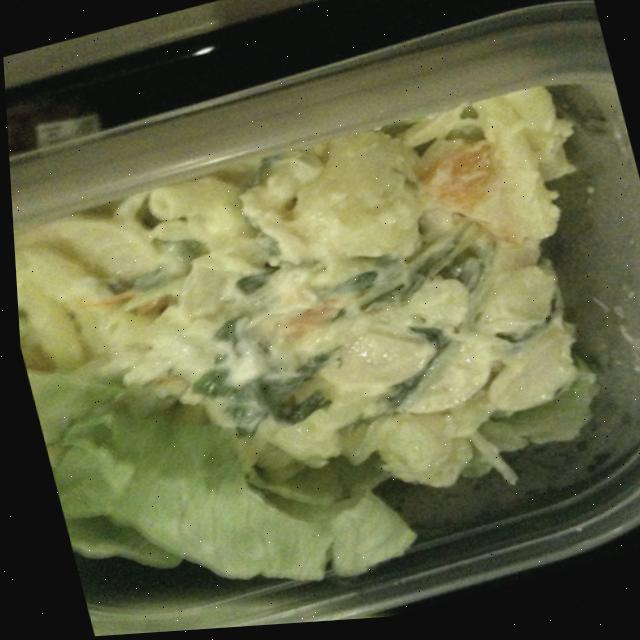蔬菜料理: (4, 62, 640, 640)
